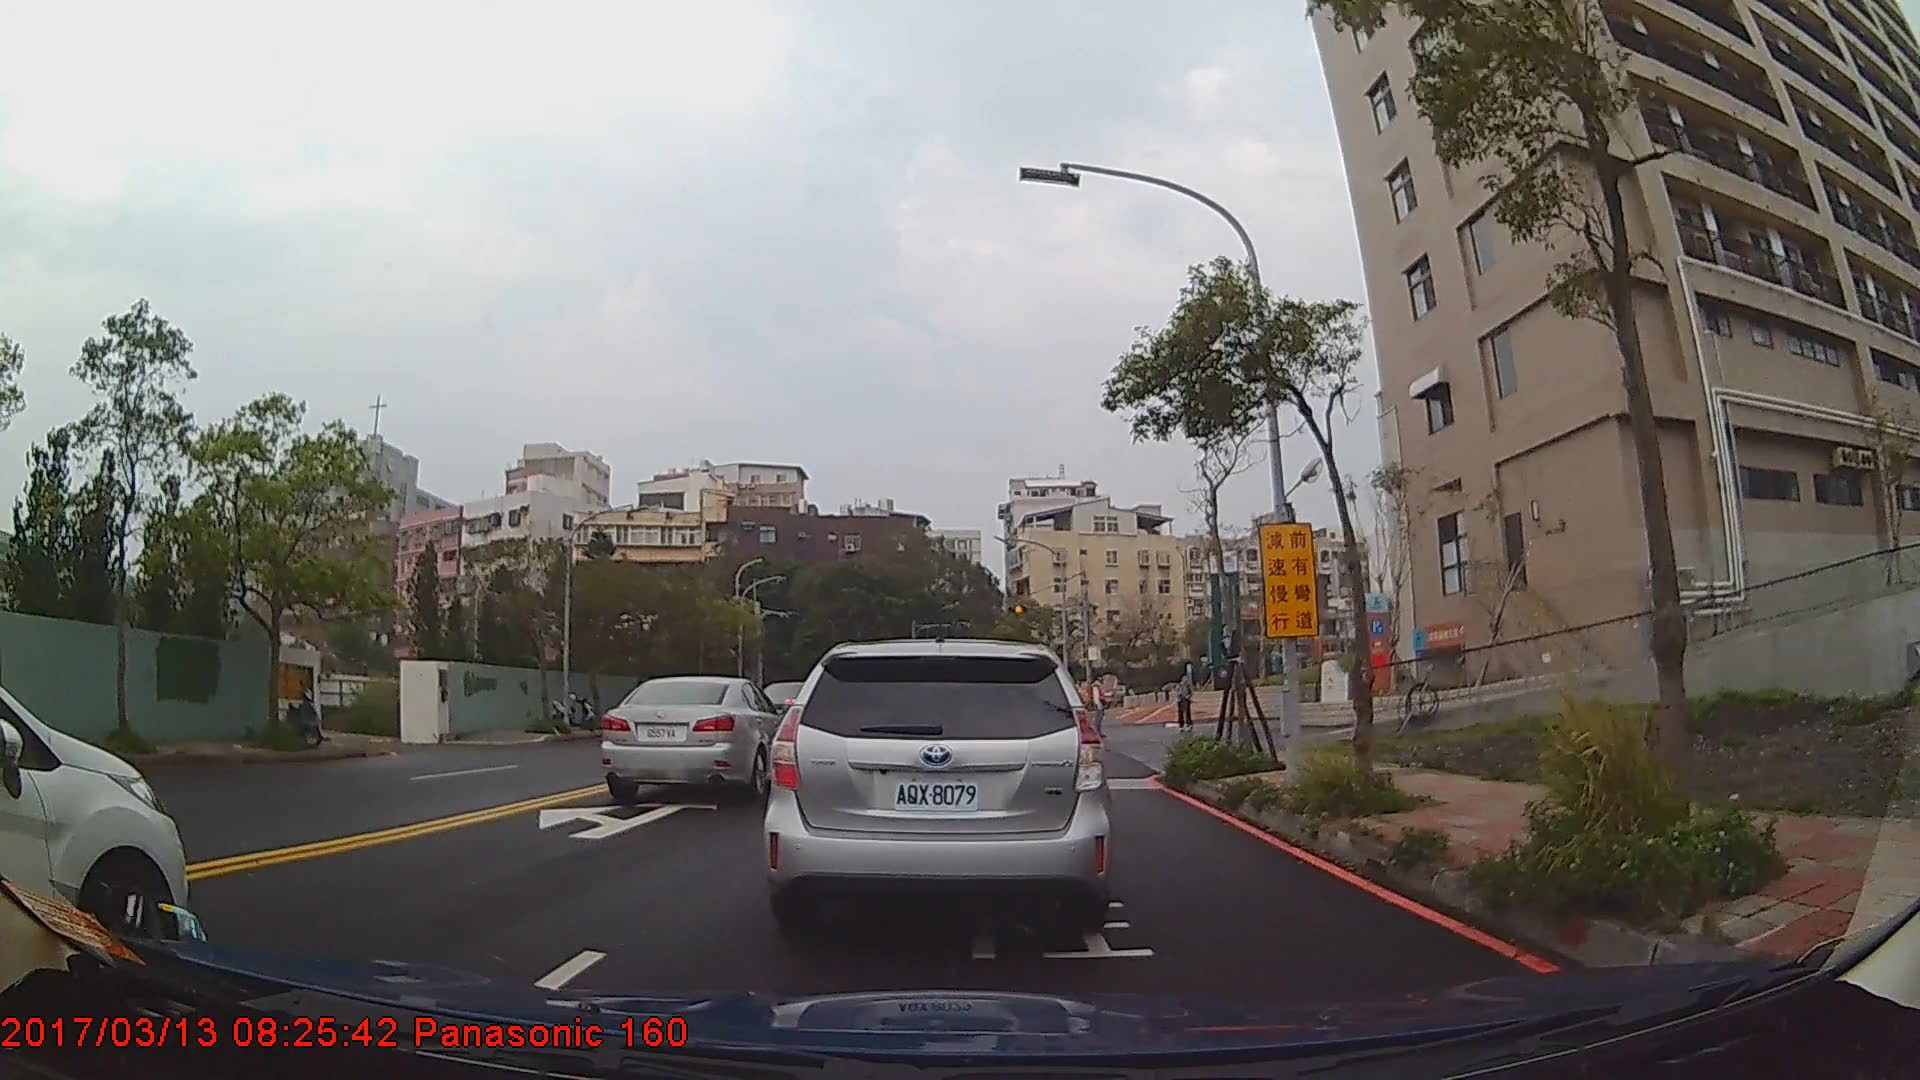pedestrian: (1088, 667, 1113, 743), (1176, 676, 1196, 734)
vehicle: (763, 637, 1112, 947), (0, 681, 190, 972), (601, 674, 791, 804)
